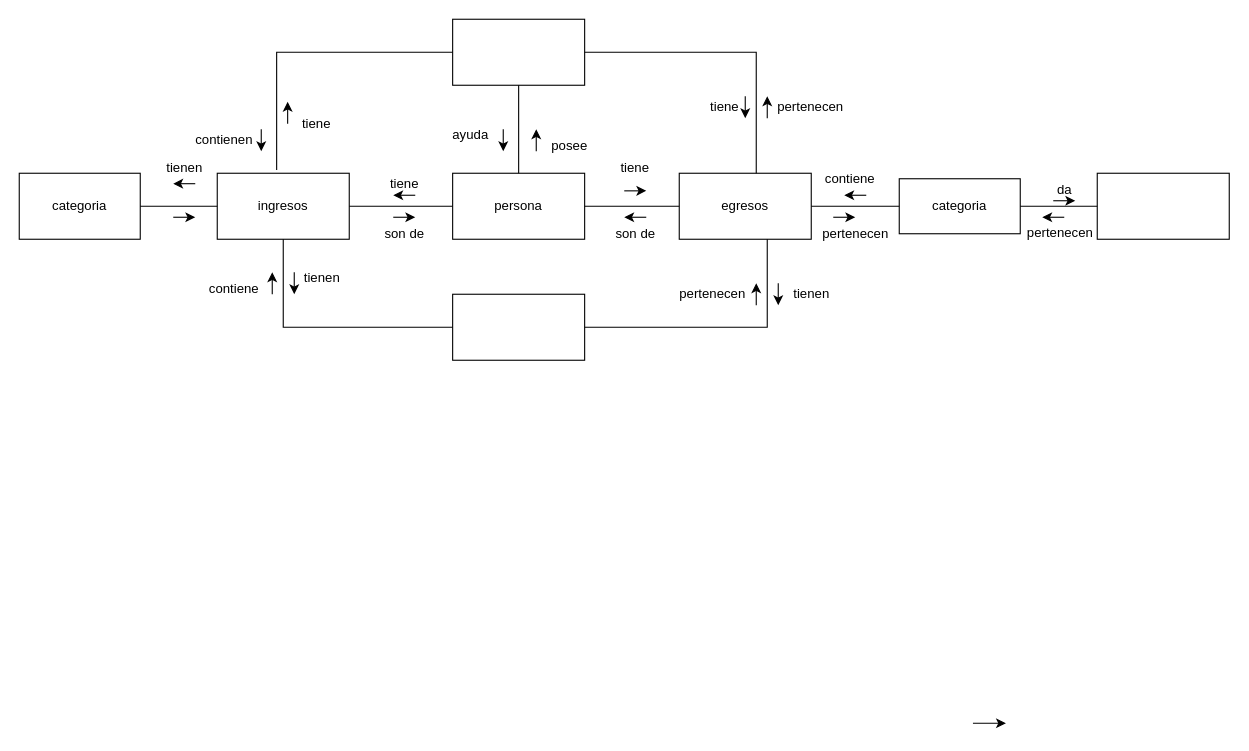
Some shapes in this 1249 by 751 pixel diagram are drawn without their labels. Each missing label, with the centre of its shape:
"mes" goes at point 518,326.
"notificaciones" goes at point 1162,205.
"presupuesto" goes at point 518,51.
